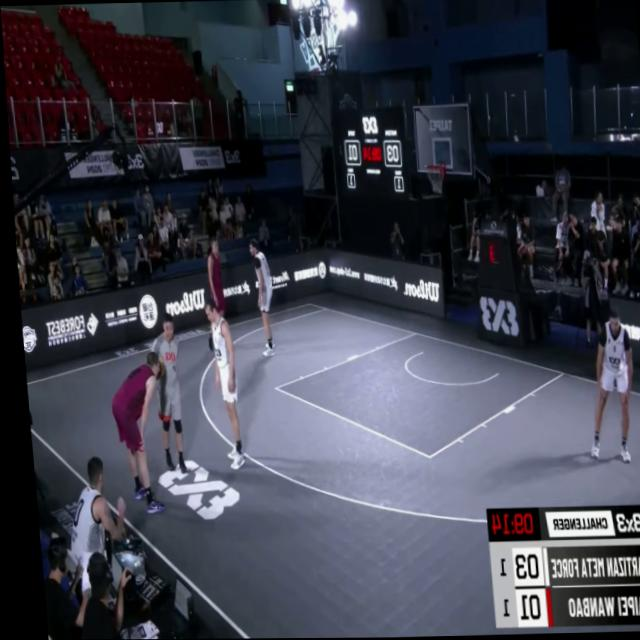ball: (148, 350, 161, 377)
hoop: (421, 160, 445, 196)
player: (103, 346, 164, 520), (575, 309, 632, 460), (201, 302, 237, 468), (242, 239, 274, 360), (203, 235, 226, 341)
